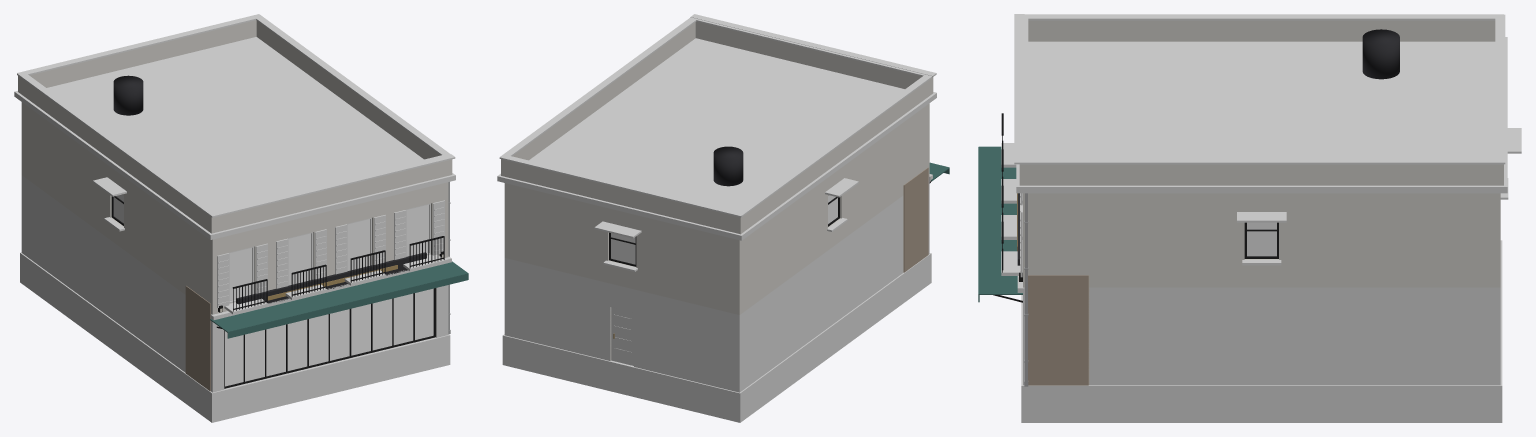
Rendered from shop_house_10x14_2.glb.
3 views of the same model, side by side, from view 1: azimuth 30°, elevation 25°; view 2: azimuth 150°, elevation 25°; view 3: azimuth 270°, elevation 25° (orthographic). The views are drawn at different scales.
Visible parts, largest first — view 1: shop_house_10x14_2; view 2: shop_house_10x14_2; view 3: shop_house_10x14_2.
Boxes of the visible parts, bbox=[...] form: shop_house_10x14_2: bbox=[14, 14, 468, 422]; shop_house_10x14_2: bbox=[497, 14, 949, 422]; shop_house_10x14_2: bbox=[978, 14, 1521, 422].
Bounding box in the file's own units: 11.22 × 8.95 × 15.92.
